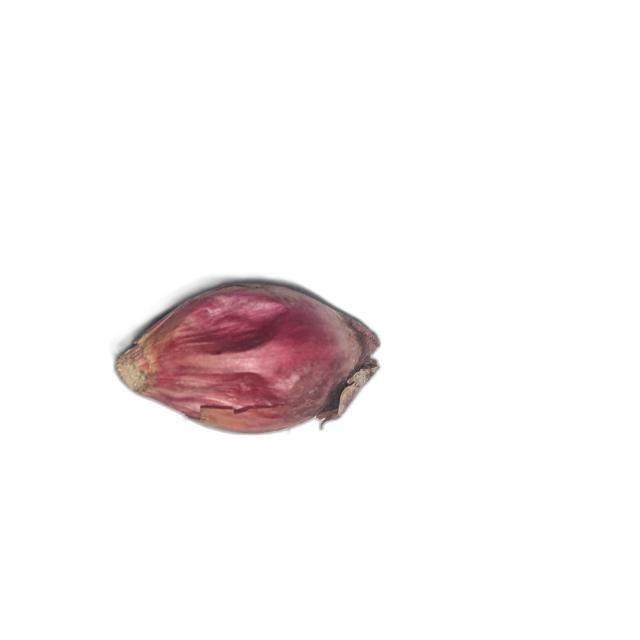onion: (112, 281, 386, 436)
